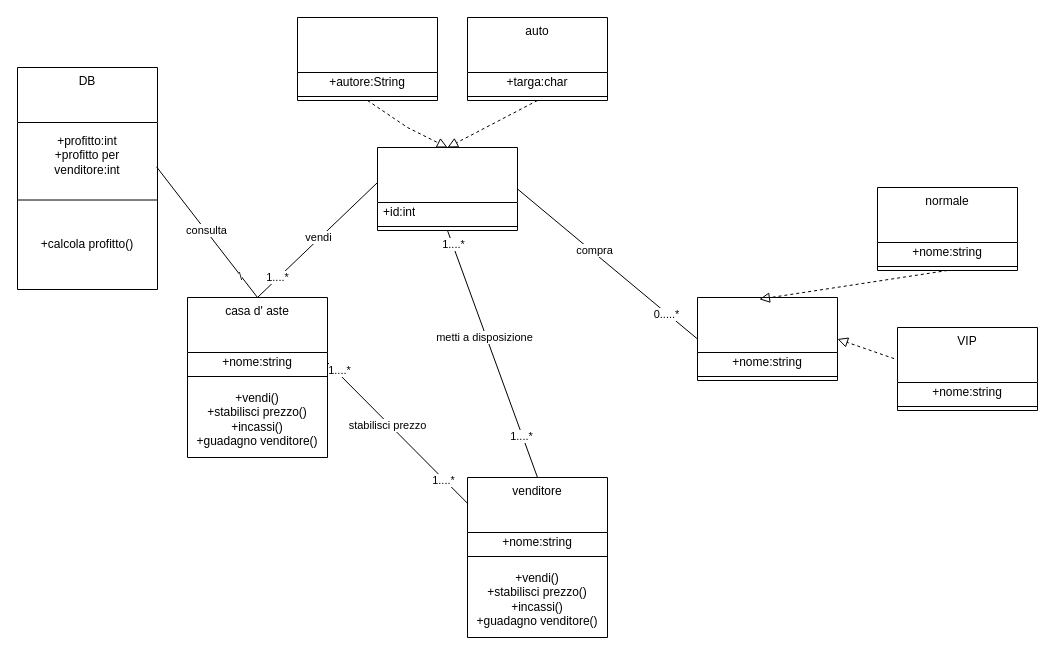
This 1055x655 diagram has some shape labels left out. Here are the shapes that lost their labels. From the top down, the box of each, then its label:
(296, 16, 438, 100): opere d arti
(376, 146, 518, 230): articolo
(696, 296, 838, 380): acquirente
